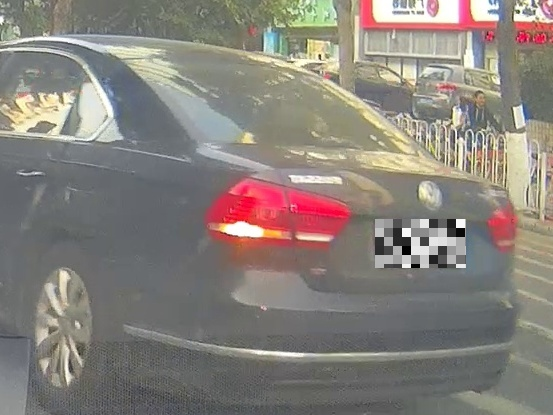L_light: (203, 176, 352, 254)
R_light: (486, 198, 517, 252)
T_light: (231, 61, 276, 72)
day-left: (117, 36, 522, 414)
plate_1: (375, 219, 466, 268)
